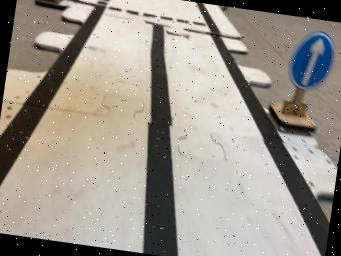forward: (268, 31, 335, 131), (268, 31, 335, 131), (268, 31, 335, 131), (268, 31, 335, 131), (268, 31, 335, 131), (268, 31, 335, 131)
street: (0, 0, 329, 256), (0, 0, 329, 256), (0, 0, 329, 256), (0, 0, 329, 256), (0, 0, 329, 256), (0, 0, 329, 256)
